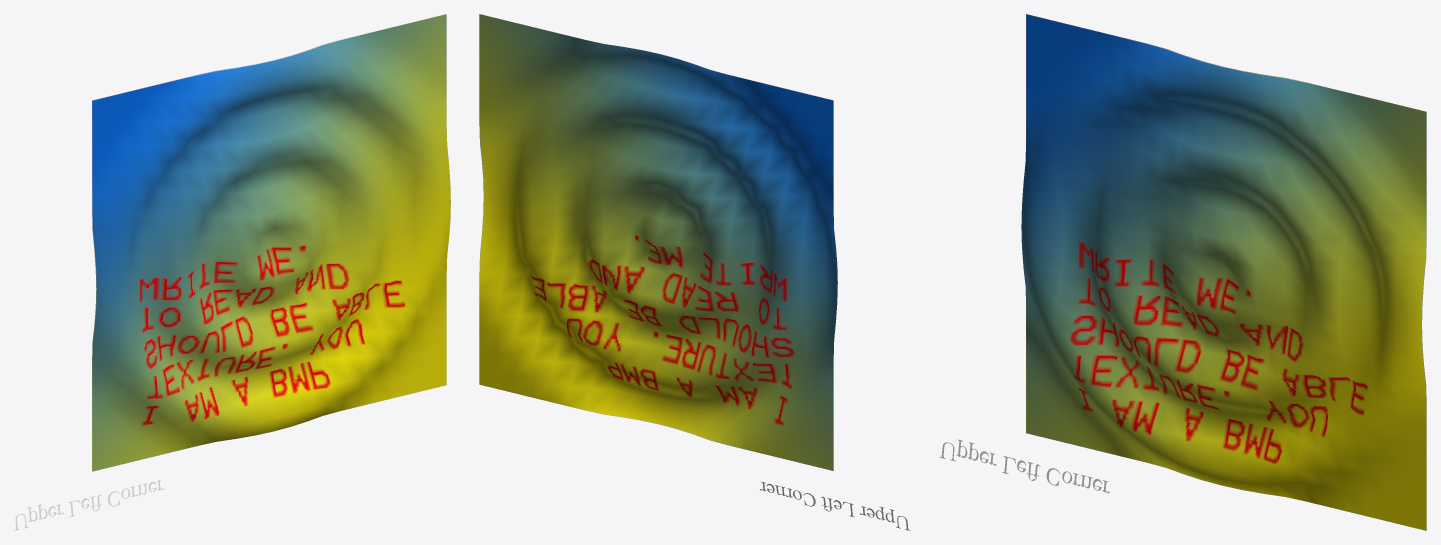
File: simple_010_TextureFormats-BMP_00.dae
3 renders of one model, left to right at view 1: azimuth 30°, elevation 25°; view 2: azimuth 150°, elevation 25°; view 3: azimuth 330°, elevation 25°, orthographic. The views are drawn at different scales.
Parts seen in each view (by area): view 1: pPlane1; view 2: pPlane1; view 3: pPlane1.
Boxes of the visible parts, x1,y1,x2,y2 form: pPlane1: (92, 14, 450, 471); pPlane1: (479, 14, 837, 470); pPlane1: (1021, 14, 1426, 530).
Bounding box in the file's own units: 18.83 × 0.8848 × 17.17.
